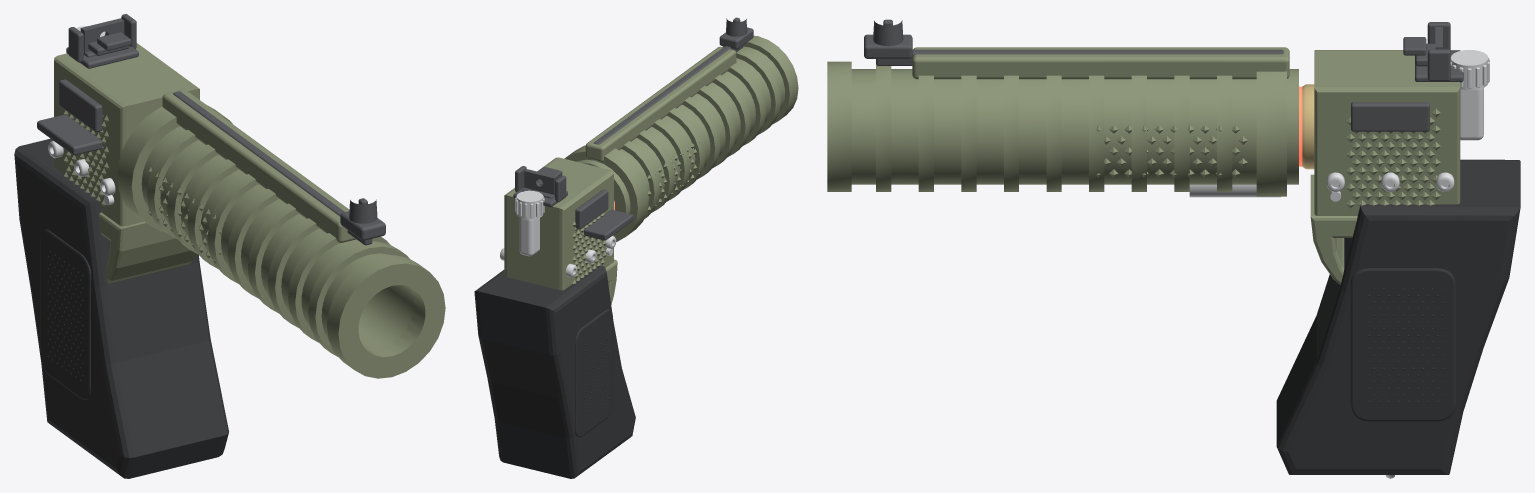
File: mega-weapon-pack-flare-pistol-290c62bd__33301.glb
3 renders of one model, left to right at view 1: azimuth 30°, elevation 25°; view 2: azimuth 150°, elevation 25°; view 3: azimuth 270°, elevation 25°, orthographic. The views are drawn at different scales.
Parts seen in each view (by area): view 1: flare-pistol, action/paintOlive, action/gunmetal; view 2: flare-pistol, action/paintOlive, action/gunmetal; view 3: flare-pistol, action/paintOlive, action/gunmetal, action/steelBright.
Boxes of the visible parts, bbox=[...] form: flare-pistol: bbox=[14, 14, 228, 478]; action/paintOlive: bbox=[117, 89, 445, 378]; action/gunmetal: bbox=[173, 91, 385, 245]; flare-pistol: bbox=[474, 157, 635, 478]; action/paintOlive: bbox=[564, 35, 798, 241]; action/gunmetal: bbox=[593, 17, 753, 144]; flare-pistol: bbox=[1276, 22, 1520, 478]; action/paintOlive: bbox=[827, 47, 1298, 196]; action/gunmetal: bbox=[864, 19, 1283, 65]; action/steelBright: bbox=[1189, 184, 1280, 197].
Bounding box in the file's own units: 0.0537 × 0.1654 × 0.2278.
